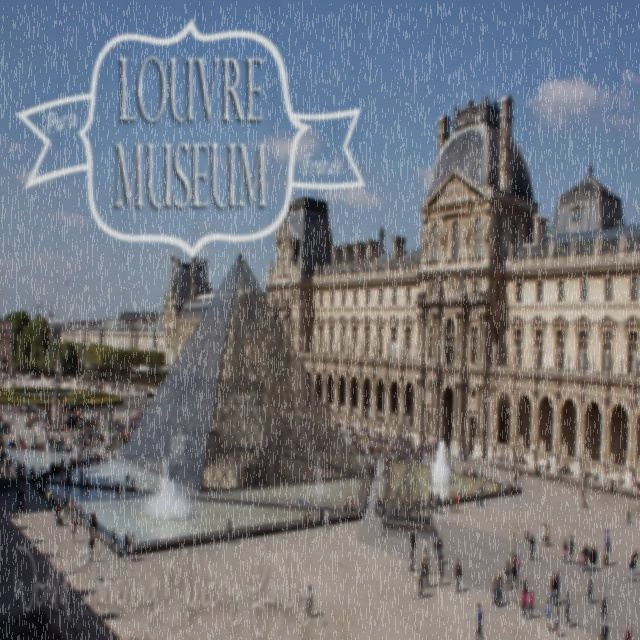pessoa: (297, 330, 638, 372), (0, 401, 146, 480), (0, 368, 159, 396), (335, 421, 410, 466), (409, 432, 452, 463), (497, 446, 525, 469), (462, 463, 495, 482), (546, 570, 557, 608), (580, 461, 600, 479), (584, 571, 594, 605), (374, 484, 384, 518), (474, 599, 482, 639), (522, 582, 530, 622), (508, 552, 516, 590), (564, 590, 572, 628), (416, 561, 424, 598), (543, 598, 551, 635), (422, 545, 429, 587), (454, 556, 462, 592), (553, 566, 560, 606), (87, 508, 97, 536), (14, 484, 24, 512), (527, 586, 535, 620), (409, 526, 416, 563), (492, 578, 500, 610), (590, 541, 598, 572), (436, 532, 444, 562), (513, 554, 521, 584), (528, 532, 536, 562), (627, 553, 635, 583), (438, 553, 445, 587), (503, 556, 510, 590), (70, 515, 78, 544), (108, 526, 116, 555), (523, 579, 530, 612), (302, 507, 312, 530), (322, 504, 330, 532), (496, 574, 503, 606), (582, 542, 590, 570), (600, 594, 608, 622), (306, 582, 312, 618), (553, 606, 560, 636), (631, 546, 638, 574), (88, 532, 94, 564), (558, 458, 570, 474), (458, 442, 468, 461), (568, 533, 574, 564), (561, 536, 568, 562), (124, 528, 130, 558), (600, 621, 610, 639), (622, 620, 632, 638), (502, 478, 512, 496), (580, 488, 588, 510), (434, 490, 442, 512), (29, 464, 36, 489), (41, 467, 48, 492), (78, 467, 85, 492), (604, 527, 611, 552), (312, 506, 324, 520), (587, 544, 593, 572), (38, 465, 44, 492), (54, 499, 60, 526), (434, 530, 440, 557), (615, 469, 624, 487), (75, 503, 82, 526), (578, 549, 585, 572), (128, 536, 134, 562), (428, 486, 434, 512), (510, 532, 516, 558), (478, 482, 484, 508), (61, 490, 68, 512), (129, 531, 135, 556), (46, 488, 52, 513), (68, 496, 75, 517), (341, 494, 349, 512), (347, 494, 355, 512), (544, 522, 550, 546), (626, 502, 632, 526), (422, 554, 426, 588), (432, 526, 437, 553), (454, 490, 460, 512), (430, 532, 435, 558), (449, 488, 454, 513), (228, 516, 232, 546), (517, 462, 522, 486), (512, 466, 517, 488), (475, 486, 480, 508), (54, 491, 61, 506), (632, 475, 640, 488), (84, 474, 89, 494), (68, 466, 72, 491), (431, 493, 436, 512), (480, 468, 487, 481), (542, 522, 546, 544), (312, 511, 318, 525), (126, 470, 130, 490), (536, 466, 540, 486), (580, 487, 584, 506), (115, 480, 120, 495), (312, 612, 324, 618), (130, 476, 134, 491), (448, 462, 454, 472), (546, 457, 550, 468), (637, 504, 639, 510)
